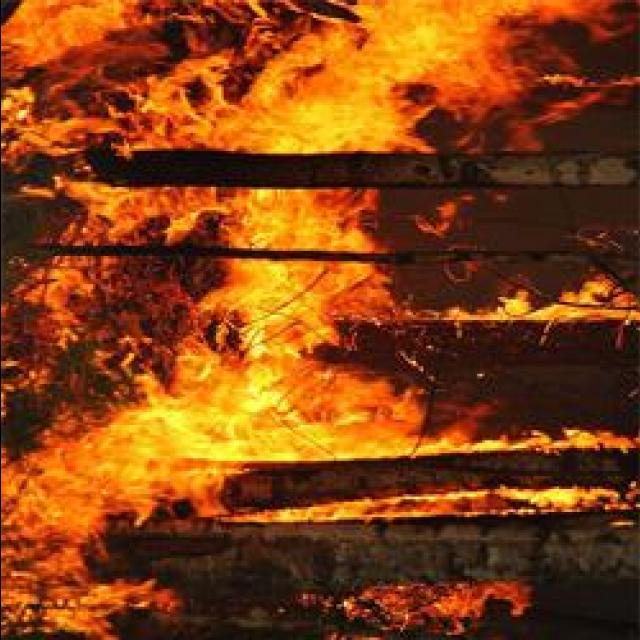fire: (228, 192, 366, 250), (168, 395, 288, 457), (244, 262, 326, 340), (376, 0, 466, 71), (290, 404, 404, 456), (14, 459, 98, 525), (104, 416, 166, 499), (32, 0, 114, 45)
